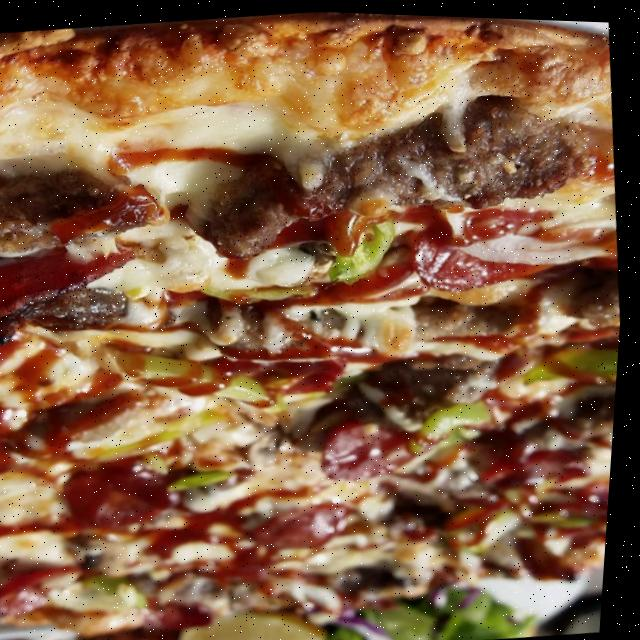pepperoni: (0, 237, 149, 331), (406, 218, 565, 299), (58, 452, 188, 533), (318, 410, 425, 479), (478, 438, 603, 496), (259, 493, 364, 556), (0, 558, 100, 618), (149, 588, 236, 631)
pizza: (0, 0, 640, 640)
